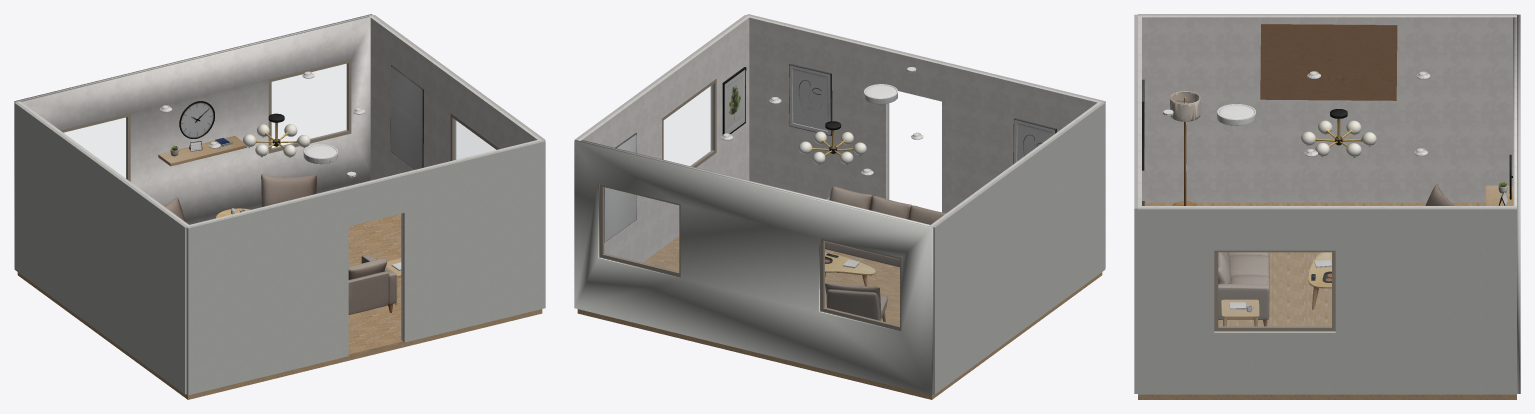
File: scene_web.glb
3 views of the same model, side by side, from view 1: azimuth 30°, elevation 25°; view 2: azimuth 150°, elevation 25°; view 3: azimuth 270°, elevation 25° (orthographic). The views are drawn at different scales.
Visible parts, largest first — view 1: geometry_0.003, geometry_0, geometry_0.007, geometry_0.004, Mesh_0, glass.001, geometry_0.017, geometry_0.008, glass, geometry_0.010, frame.001, geometry_0.023 (+9 smaller); view 2: geometry_0.001, geometry_0.002, geometry_0.007, geometry_0.004, Mesh_0, glass.001, glass, glass.002, geometry_0.019, geometry_0.008, geometry_0.009, geometry_0.017 (+12 smaller); view 3: geometry_0.005, geometry_0.006, Mesh_0.001, glass.002, Mesh_0, geometry_0.008, frame.002, geometry_0.023, geometry_0.001, geometry_0.003, geometry_0.013, geometry_0.004 (+7 smaller).
Part boxes in pixels (x1,y1,x2,y2): geometry_0.003: [186, 140, 545, 395]; geometry_0: [21, 16, 370, 224]; geometry_0.007: [14, 102, 187, 394]; geometry_0.004: [369, 15, 541, 180]; Mesh_0: [17, 213, 542, 399]; glass.001: [272, 64, 347, 148]; geometry_0.017: [390, 65, 423, 169]; geometry_0.008: [348, 254, 396, 314]; glass: [65, 117, 126, 178]; geometry_0.010: [261, 174, 316, 206]; frame.001: [268, 59, 351, 153]; geometry_0.023: [243, 113, 310, 157]; geometry_0.001: [574, 140, 933, 395]; geometry_0.002: [749, 16, 1098, 213]; geometry_0.007: [932, 102, 1105, 394]; geometry_0.004: [578, 15, 750, 262]; Mesh_0: [577, 236, 1102, 399]; glass.001: [603, 187, 678, 271]; glass: [824, 241, 899, 325]; glass.002: [664, 85, 712, 165]; geometry_0.019: [789, 63, 832, 135]; geometry_0.008: [825, 186, 945, 267]; geometry_0.009: [825, 283, 887, 321]; geometry_0.017: [604, 133, 636, 242]; geometry_0.005: [1138, 207, 1516, 394]; geometry_0.006: [1138, 15, 1516, 202]; Mesh_0.001: [1260, 24, 1397, 100]; glass.002: [1218, 252, 1331, 326]; Mesh_0: [1138, 202, 1516, 399]; geometry_0.008: [1218, 252, 1269, 326]; frame.002: [1214, 250, 1335, 331]; geometry_0.023: [1301, 109, 1376, 157]; geometry_0.001: [1517, 14, 1520, 393]; geometry_0.003: [1134, 14, 1137, 393]; geometry_0.013: [1170, 91, 1200, 205]; geometry_0.004: [1138, 206, 1516, 207].
Size of the model in its own units: 6.1 by 2.8 by 5.1.
32 materials, 30 textured.
